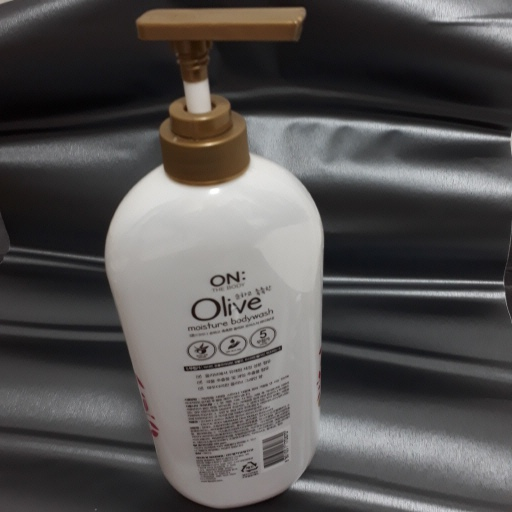Plastic_3: (102, 7, 327, 511)
